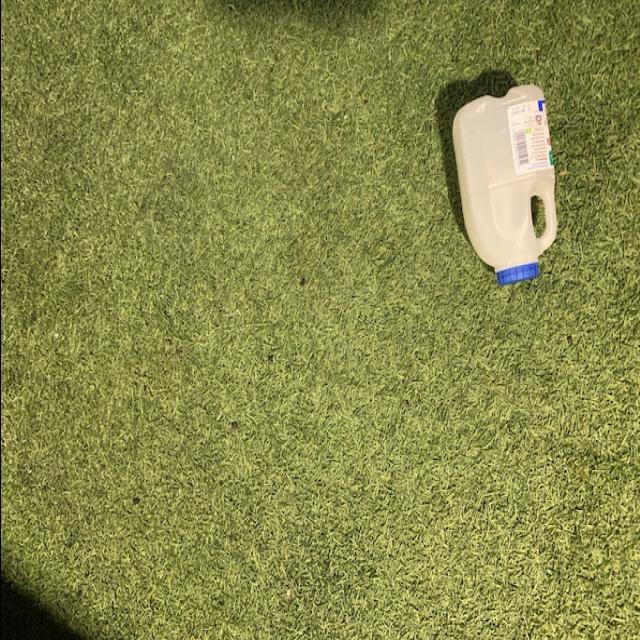litter: (451, 85, 558, 285)
